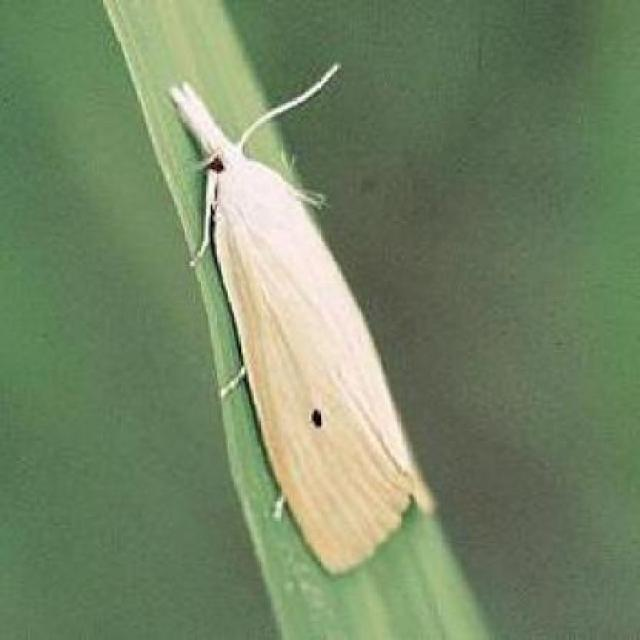stem-borer: (163, 58, 439, 576)
